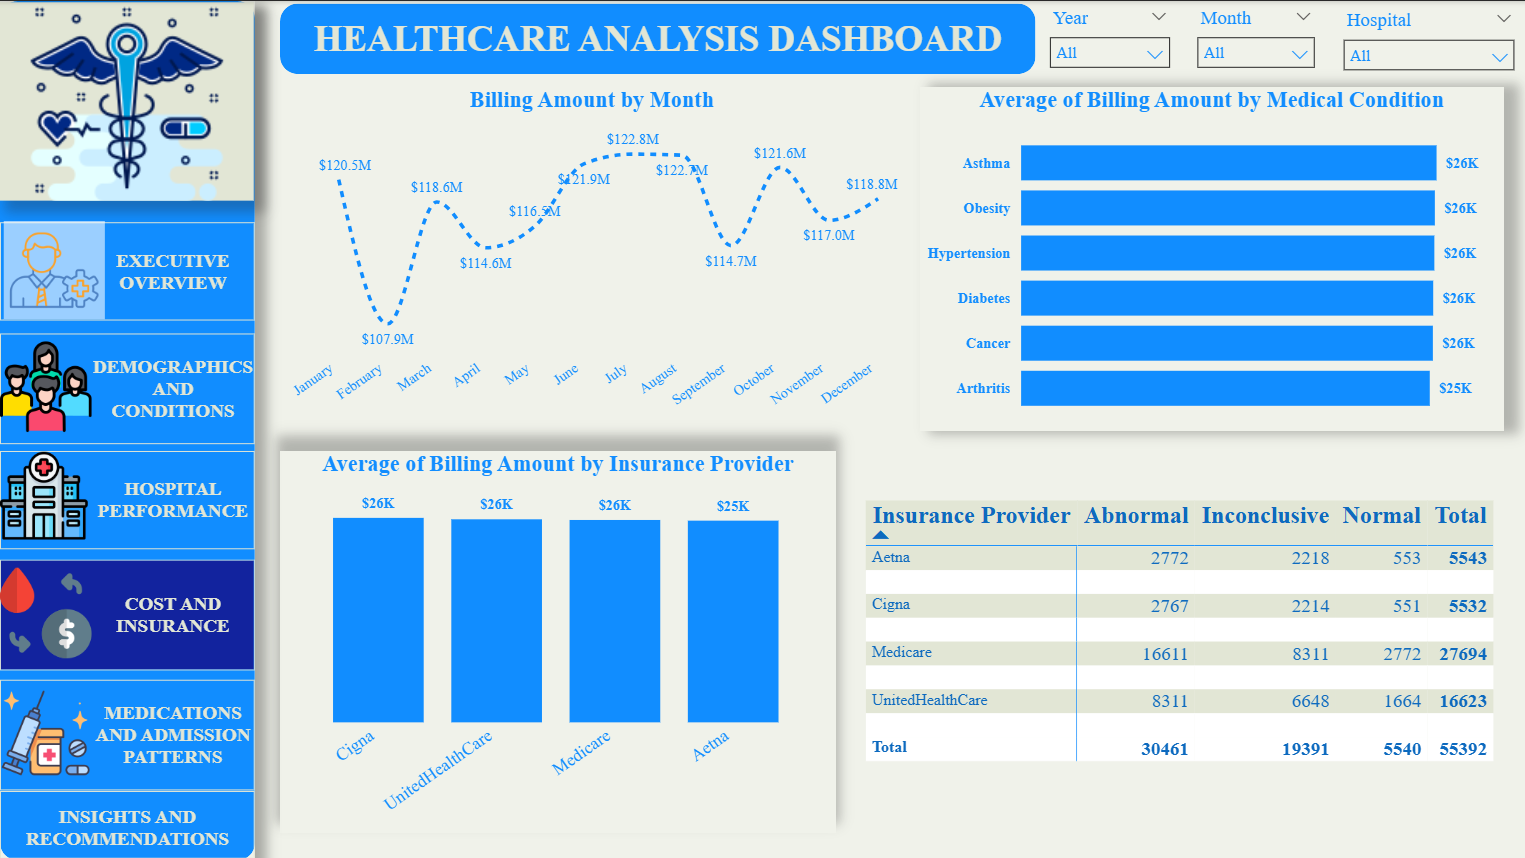

The page's visual inventory and layout, read from the dashboard file:
{"tool":"powerbi","page":{"name":"Page 4","canvas":[1280,720],"ordinal":3},"visuals":[{"type":"shape","box":[0,0,214,720.9],"z":0,"group":"g1"},{"type":"clusteredBarChart","fields":{"Category":["Data.Medical Condition"],"Y":["Avg(Data.Billing Amount)"]},"box":[772.1,72.1,489.5,288.4],"z":0},{"type":"clusteredColumnChart","fields":{"Y":["Avg(Data.Billing Amount)"],"Category":["Data.Insurance Provider"]},"box":[234.9,377.9,466.3,319.8],"z":1000},{"type":"lineChart","title":"Billing Amount by Month","fields":{"Category":["Data.Date of Admission.Variation.Date Hierarchy.Month"],"Y":["Sum(Data.Billing Amount)"]},"box":[234.9,72.1,523.3,288.4],"z":2000},{"type":"pivotTable","fields":{"Rows":["Data.Insurance Provider"],"Columns":["Data.Test Results"],"Values":["CountNonNull(Data.Test Results)"]},"box":[720.9,414,538.4,258.1],"z":3000},{"type":"slicer","fields":{"Values":["Data.Date of Admission.Variation.Date Hierarchy.Year"]},"box":[869.8,0,120.9,61.6],"z":4000},{"type":"slicer","fields":{"Values":["Data.Hospital"]},"box":[1116,2.3,164,59.3],"z":5000},{"type":"slicer","fields":{"Values":["Data.Date of Admission.Variation.Date Hierarchy.Month"]},"box":[994.2,0,118.6,61.6],"z":6000},{"type":"group","id":"g1","title":"Group 10","box":[0,0,214,720.9],"z":7000},{"type":"group","id":"g2","title":"Group 7","box":[0,184.4,214,83.3],"z":8000},{"type":"shape","box":[234.9,2.3,633.7,59.3],"z":9000},{"type":"group","id":"g3","title":"Group 9","box":[0,662.8,214,57],"z":10000},{"type":"shape","box":[0,279.2,214,93],"z":16000,"group":"g5"},{"type":"group","id":"g4","title":"Group 8","box":[0,369.6,214,89.5],"z":16000,"group":"g1"},{"type":"shape","box":[0,468.8,214,93],"z":16000,"group":"g6"},{"type":"shape","box":[0,569.6,214,93],"z":16000,"group":"g7"},{"type":"shape","box":[0,662.8,214,57],"z":16000,"group":"g3"},{"type":"group","id":"g5","title":"Group 9","box":[0,279.2,214,93],"z":17000,"group":"g1"},{"type":"group","id":"g6","title":"Group 9","box":[0,468.8,214,93],"z":18000,"group":"g1"},{"type":"shape","box":[0,185.2,214,82.6],"z":18500,"group":"g2"},{"type":"group","id":"g7","title":"Group 9","box":[0,569.6,214,93],"z":19000,"group":"g1"},{"type":"shape","box":[0,376.5,214,82.6],"z":19500,"group":"g4"},{"type":"image","box":[0,1.2,212.8,166.3],"z":20000,"group":"g1"},{"type":"shape","box":[76.7,185.1,137.2,82.6],"z":21500,"group":"g2"},{"type":"image","box":[3.5,184.4,84.9,82.6],"z":22000,"group":"g2"},{"type":"image","box":[0,369.6,73.3,89.5],"z":23000,"group":"g4"},{"type":"shape","box":[76.7,379.4,137.2,79.1],"z":26500,"group":"g4"},{"type":"image","box":[0,280.3,76.7,87.2],"z":27001,"group":"g5"},{"type":"image","box":[0,469.9,76.7,87.2],"z":27001,"group":"g6"},{"type":"image","box":[0,570.7,76.7,87.2],"z":27001,"group":"g7"},{"type":"shape","box":[76.7,280.1,137.2,90.7],"z":27501,"group":"g5"},{"type":"shape","box":[76.7,471.1,137.2,87.2],"z":27501,"group":"g6"},{"type":"shape","box":[76.7,570.1,137.2,91.9],"z":27501,"group":"g7"},{"type":"shape","box":[0,666.5,214,52.3],"z":27501,"group":"g3"}]}

Visuals, with their boxes in screenshot pixels (x1, y1, x2, y2), scaled from the page's 1280x720 canvas onto the 1525x858 screenshot:
shape: 0 0 255 857
clusteredBarChart - Data.Medical Condition x Avg(Data.Billing Amount): 920 86 1503 430
clusteredColumnChart - Avg(Data.Billing Amount) x Data.Insurance Provider: 280 450 835 831
"Billing Amount by Month" lineChart: 280 86 903 430
pivotTable - Data.Insurance Provider x Data.Test Results: 859 493 1500 801
slicer - Data.Date of Admission.Variation.Date Hierarchy.Year: 1036 0 1180 73
slicer - Data.Hospital: 1330 3 1524 73
slicer - Data.Date of Admission.Variation.Date Hierarchy.Month: 1184 0 1326 73
"Group 10" group: 0 0 255 857
"Group 7" group: 0 220 255 319
shape: 280 3 1035 73
"Group 9" group: 0 790 255 857
shape: 0 333 255 444
"Group 8" group: 0 440 255 547
shape: 0 559 255 669
shape: 0 679 255 790
shape: 0 790 255 857
"Group 9" group: 0 333 255 444
"Group 9" group: 0 559 255 669
shape: 0 221 255 319
"Group 9" group: 0 679 255 790
shape: 0 449 255 547
image: 0 1 254 200
shape: 91 221 255 319
image: 4 220 105 318
image: 0 440 87 547
shape: 91 452 255 546
image: 0 334 91 438
image: 0 560 91 664
image: 0 680 91 784
shape: 91 334 255 442
shape: 91 561 255 665
shape: 91 679 255 789
shape: 0 794 255 857
